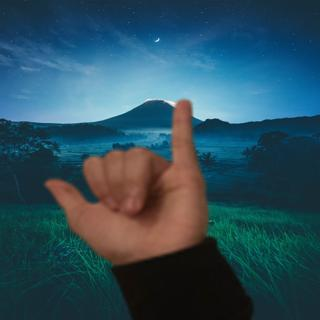HAVE: (29, 96, 214, 271)
